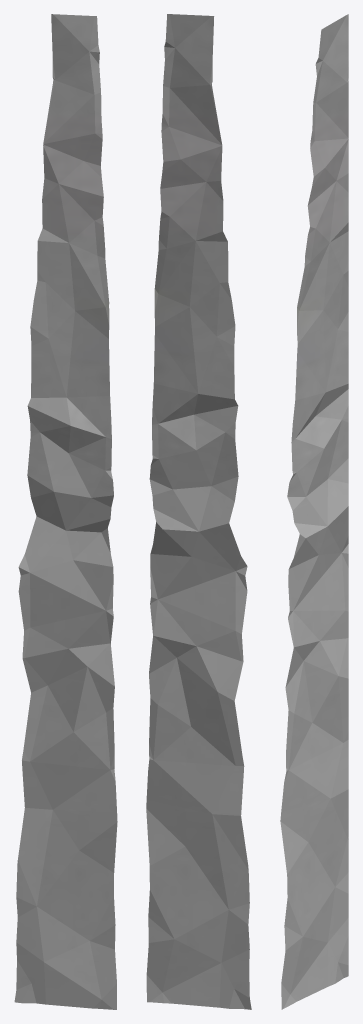
3 views of the same model, side by side, from view 1: azimuth 30°, elevation 25°; view 2: azimuth 210°, elevation 25°; view 3: azimuth 270°, elevation 25° (orthographic). The views are drawn at different scales.
Size of the model in its own units: 0.0617 by 0.8373 by 0.0528.
Materials: 1 (1 with a texture image).
